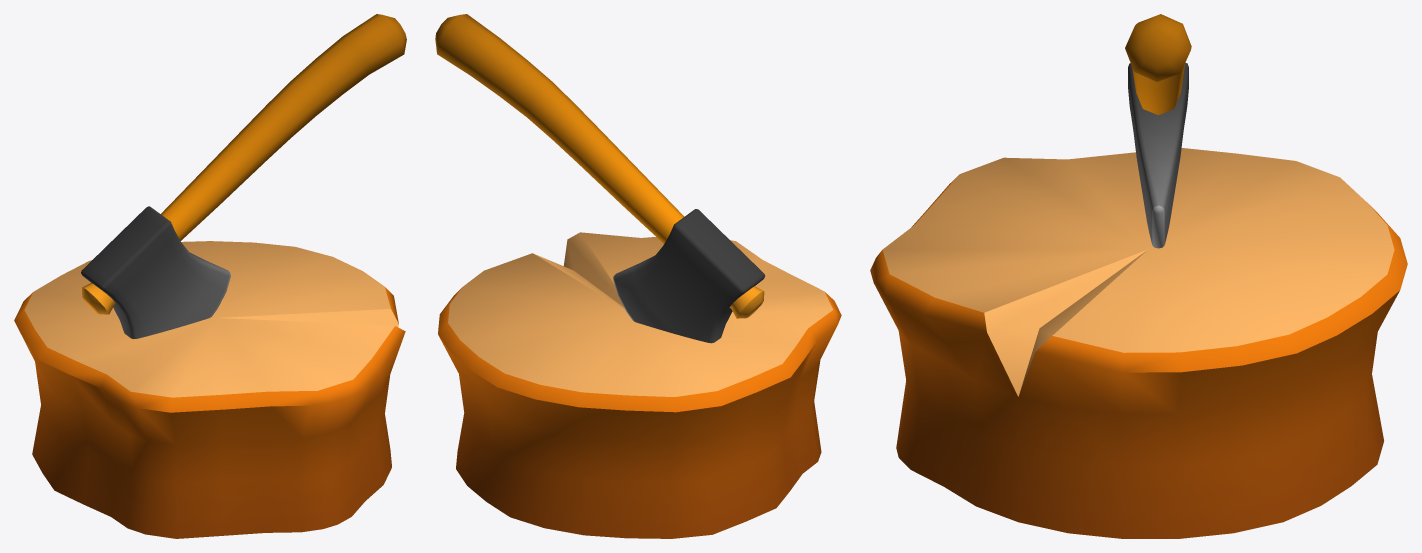
The model's file is Props_Tree_Stump_01.glb.
3 renders of one model, left to right at view 1: azimuth 30°, elevation 25°; view 2: azimuth 150°, elevation 25°; view 3: azimuth 270°, elevation 25°, orthographic. The views are drawn at different scales.
Parts seen in each view (by area): view 1: Props_Tree_Stump_01; view 2: Props_Tree_Stump_01; view 3: Props_Tree_Stump_01.
Boxes of the visible parts, x1,y1,x2,y2 form: Props_Tree_Stump_01: [14, 14, 406, 538]; Props_Tree_Stump_01: [435, 14, 841, 538]; Props_Tree_Stump_01: [870, 14, 1407, 538].
Bounding box in the file's own units: 1.02 × 1.11 × 1.01.
1 material, 1 textured.
